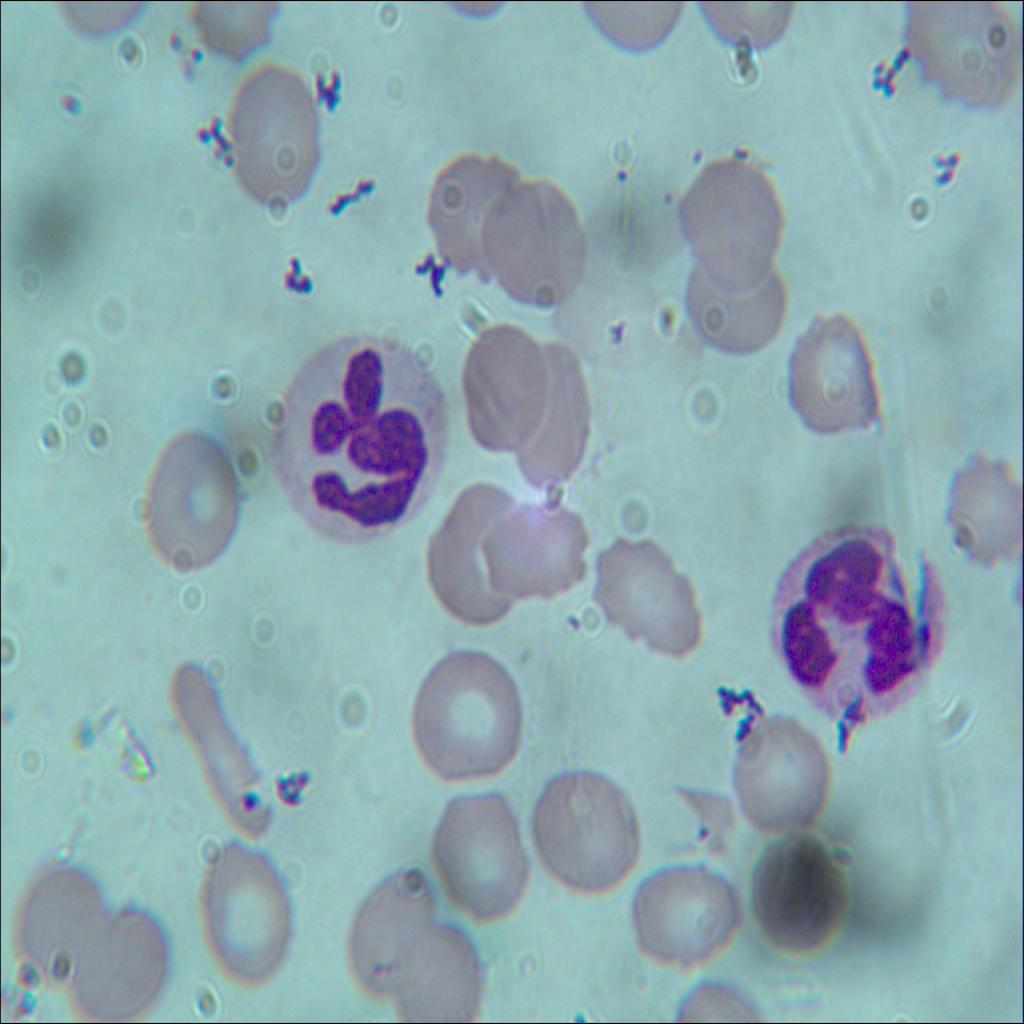Eritrosit: (578, 525, 710, 668), (136, 417, 244, 586), (194, 837, 300, 1008), (174, 661, 276, 832), (216, 55, 319, 224), (406, 636, 526, 778), (531, 758, 648, 900), (424, 778, 535, 920), (415, 478, 521, 624), (669, 152, 783, 282), (676, 241, 793, 367), (623, 852, 742, 966), (483, 184, 586, 314), (742, 822, 846, 950), (510, 332, 593, 487), (453, 315, 546, 451), (788, 318, 882, 450), (906, 0, 1006, 115), (71, 905, 166, 1022), (433, 142, 511, 284), (346, 862, 431, 992), (728, 714, 830, 821), (486, 501, 588, 607), (12, 862, 106, 975), (943, 444, 1023, 570), (394, 928, 484, 1023)
Neutrofil: (268, 334, 451, 553), (768, 520, 949, 732)
Platelet: (59, 87, 95, 125), (610, 154, 641, 197), (654, 168, 679, 214), (690, 809, 716, 850), (608, 308, 634, 345), (678, 138, 708, 170), (239, 781, 262, 821), (558, 607, 586, 634), (184, 37, 206, 65), (218, 144, 235, 174), (163, 29, 182, 54)
